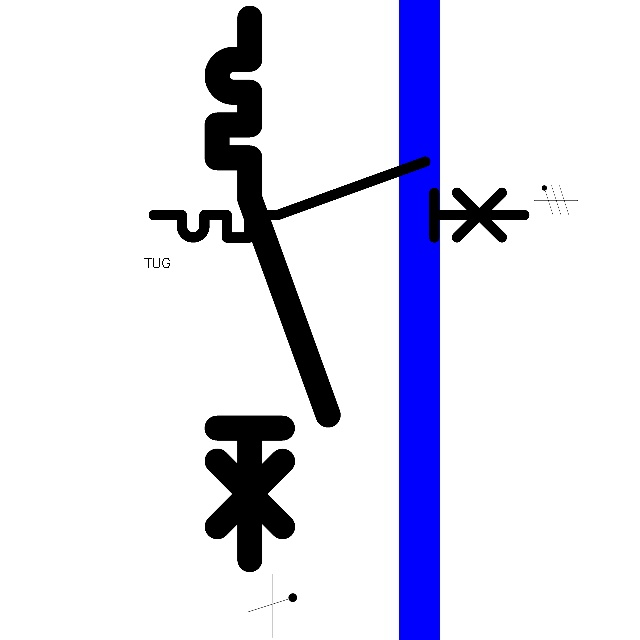interruptor_termomagnetico: (203, 4, 342, 573), (144, 152, 534, 247)
